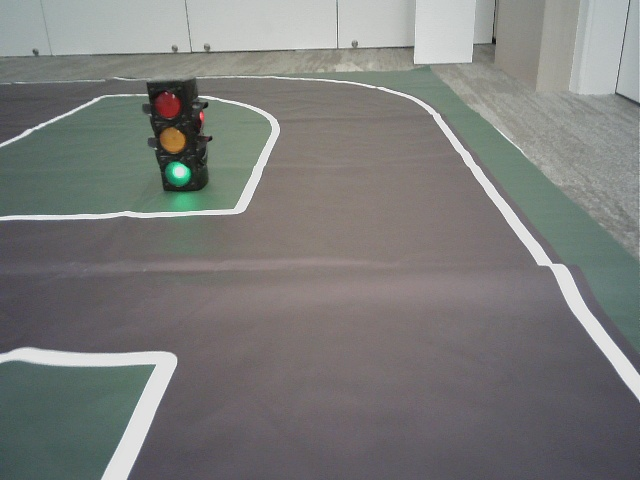green: (148, 87, 199, 187)
